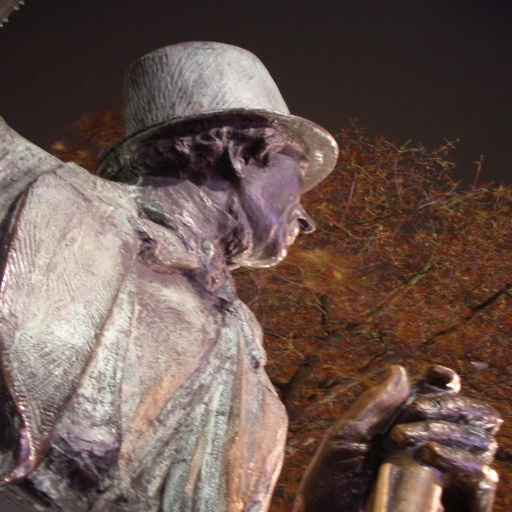hand: (285, 364, 499, 498)
